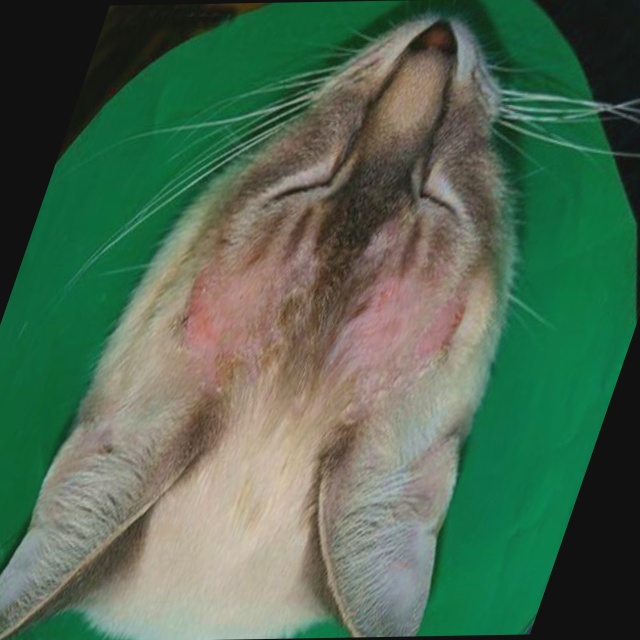ringworm: (333, 274, 478, 379), (163, 259, 294, 359)
